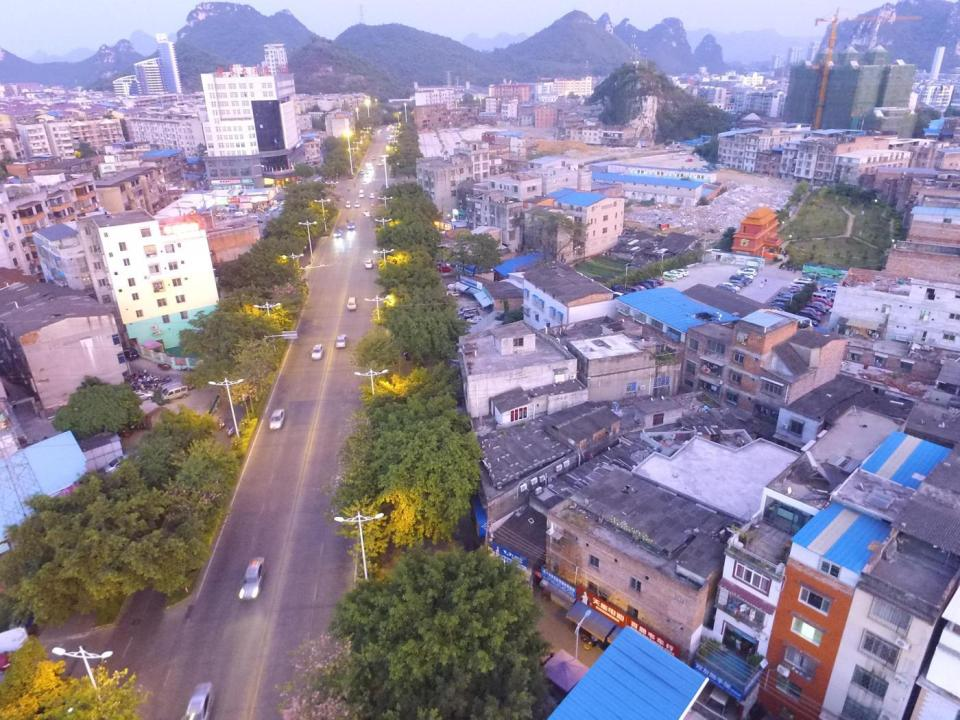car: (238, 556, 267, 601), (182, 681, 214, 720), (104, 453, 133, 474), (268, 407, 285, 430), (797, 310, 821, 322), (310, 343, 324, 361), (805, 302, 826, 314), (131, 390, 156, 400), (729, 274, 749, 286), (810, 297, 834, 307), (123, 347, 139, 361), (809, 300, 831, 310), (456, 305, 479, 314), (800, 307, 823, 316), (715, 284, 737, 293), (466, 315, 484, 325), (722, 282, 741, 291), (437, 264, 454, 274), (335, 335, 348, 348), (458, 310, 479, 318), (736, 268, 757, 276), (662, 270, 683, 278), (793, 277, 814, 285), (788, 280, 808, 288), (670, 268, 689, 276), (662, 273, 677, 282), (642, 279, 658, 287), (737, 272, 755, 279), (364, 258, 375, 269), (649, 277, 664, 285), (728, 280, 744, 287), (332, 229, 342, 238), (635, 285, 648, 291), (347, 221, 355, 230), (824, 282, 840, 286), (354, 201, 360, 208), (362, 179, 368, 185), (678, 151, 687, 155), (685, 158, 693, 162), (370, 193, 374, 199), (371, 156, 376, 160)
van: (159, 383, 189, 403), (811, 291, 831, 301), (346, 296, 357, 312), (820, 287, 837, 296), (715, 164, 725, 169), (359, 189, 364, 198), (346, 201, 350, 208)
